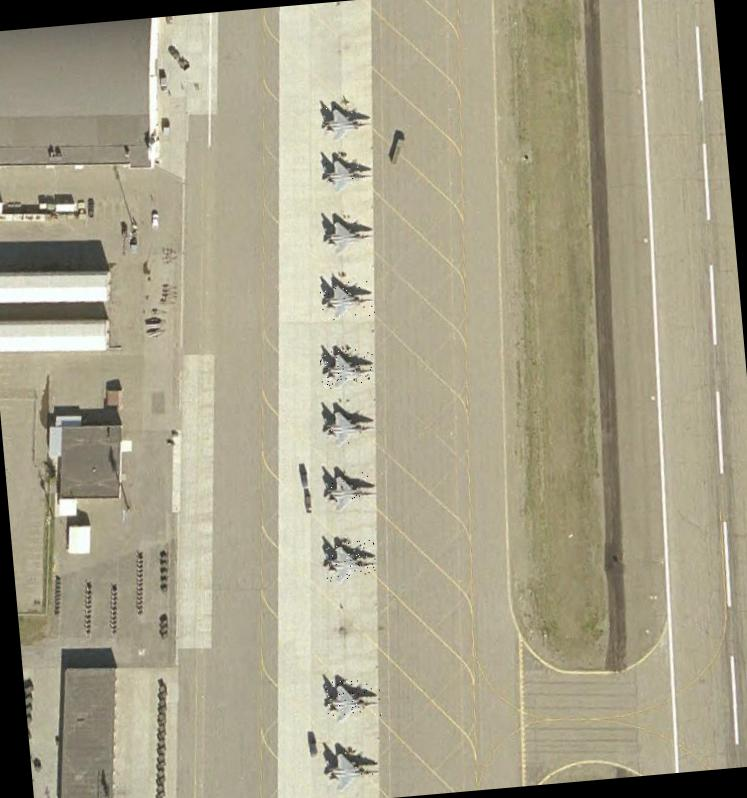A13: (322, 678, 382, 724), (319, 278, 376, 322), (320, 471, 377, 515), (324, 748, 380, 792), (318, 347, 374, 389), (321, 406, 375, 448), (322, 540, 376, 582), (319, 215, 374, 255), (320, 104, 374, 142), (320, 154, 372, 192)
